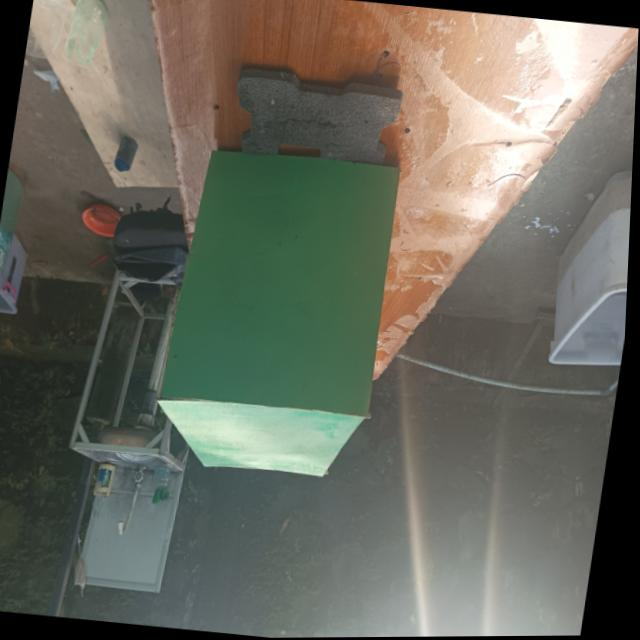green_box: (153, 132, 420, 493)
